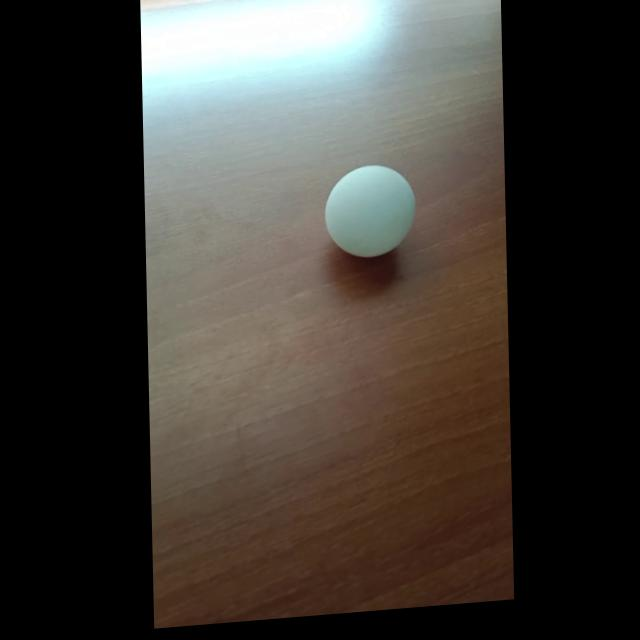white ball: (322, 161, 416, 262)
